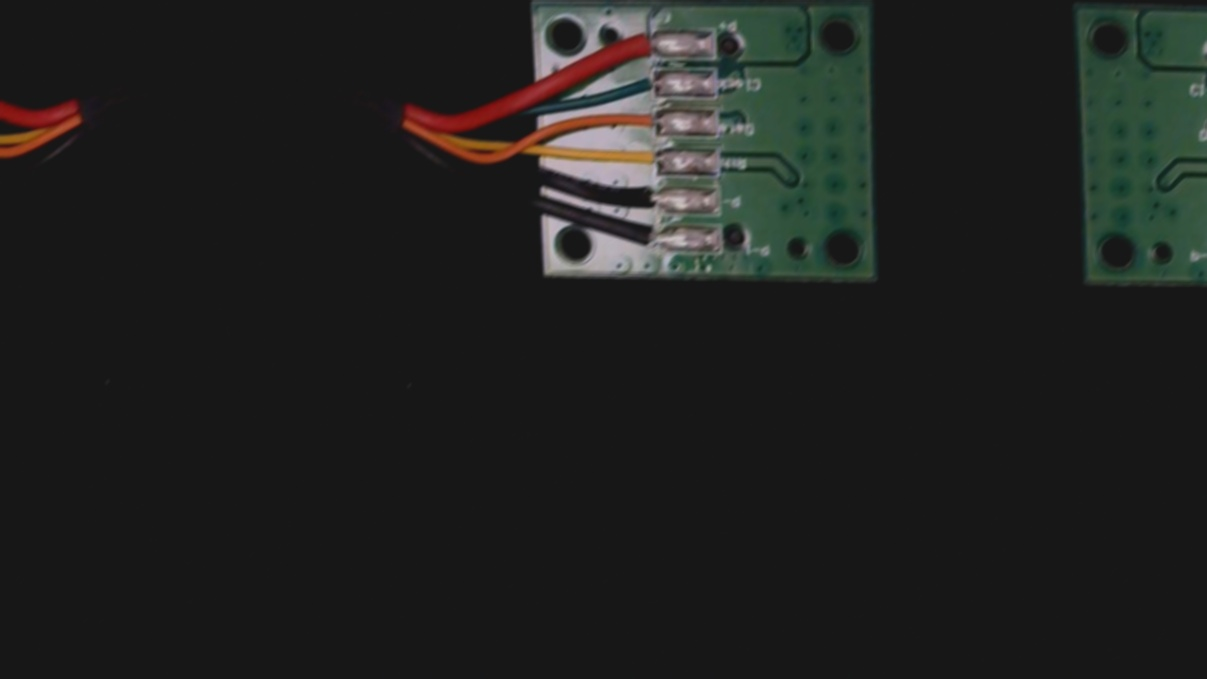Black: (615, 185, 674, 213)
Black1: (616, 223, 675, 253)
Green: (617, 68, 672, 100)
Orange: (617, 106, 672, 139)
Red: (616, 30, 671, 57)
Yellow: (612, 144, 671, 177)
